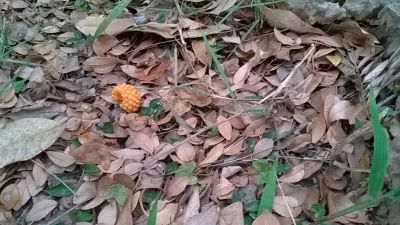eggs: (112, 83, 142, 113)
